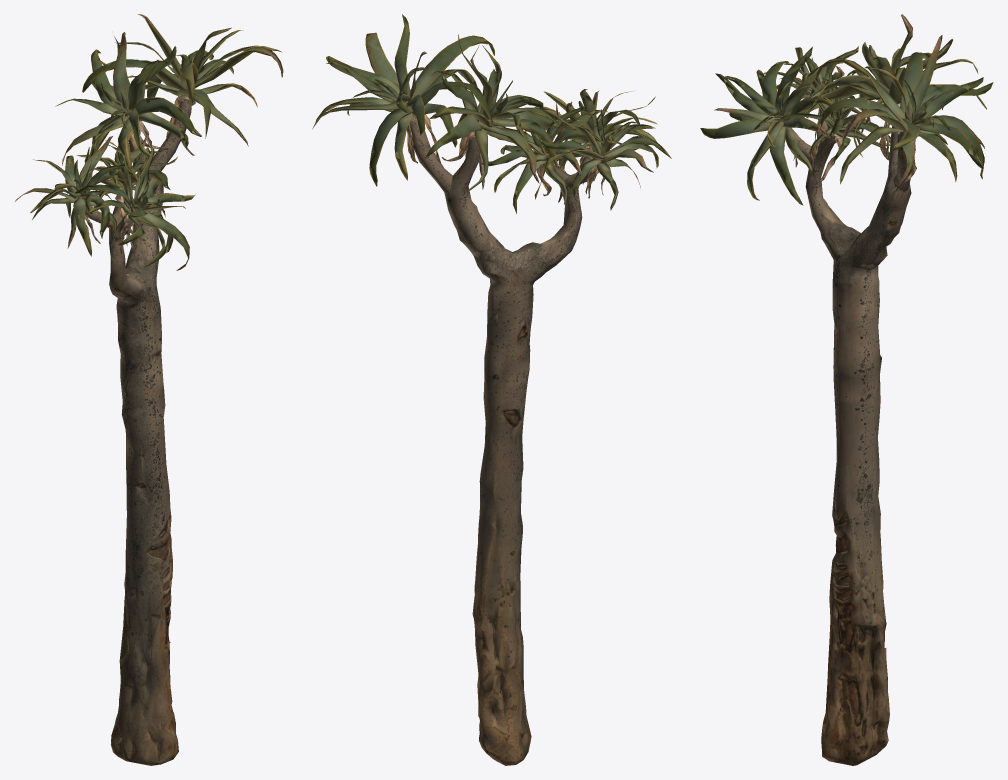
The model's file is quiver-tree.glb.
The picture shows the model from 3 angles, left to right: view 1: azimuth 30°, elevation 25°; view 2: azimuth 150°, elevation 25°; view 3: azimuth 270°, elevation 25°; orthographic projection. The views are drawn at different scales.
Size of the model in its own units: 1.18 by 2.71 by 0.9657.
2 materials, 2 textured.
